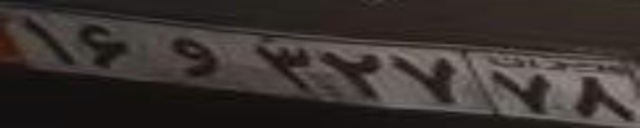1: (23, 16, 69, 66)
2: (317, 52, 383, 100)
3: (252, 41, 311, 92)
6: (76, 19, 130, 68)
7: (386, 51, 462, 106), (481, 66, 552, 116)
8: (564, 71, 634, 123)
he: (163, 36, 228, 79)
